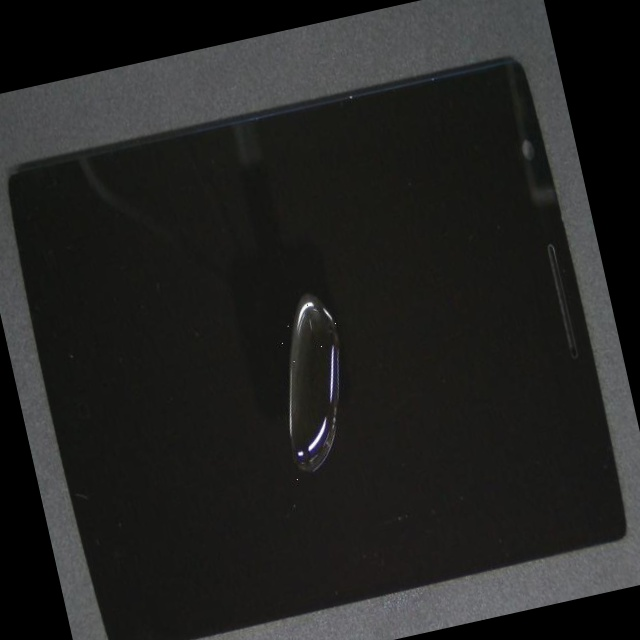oil: (113, 190, 462, 640)
